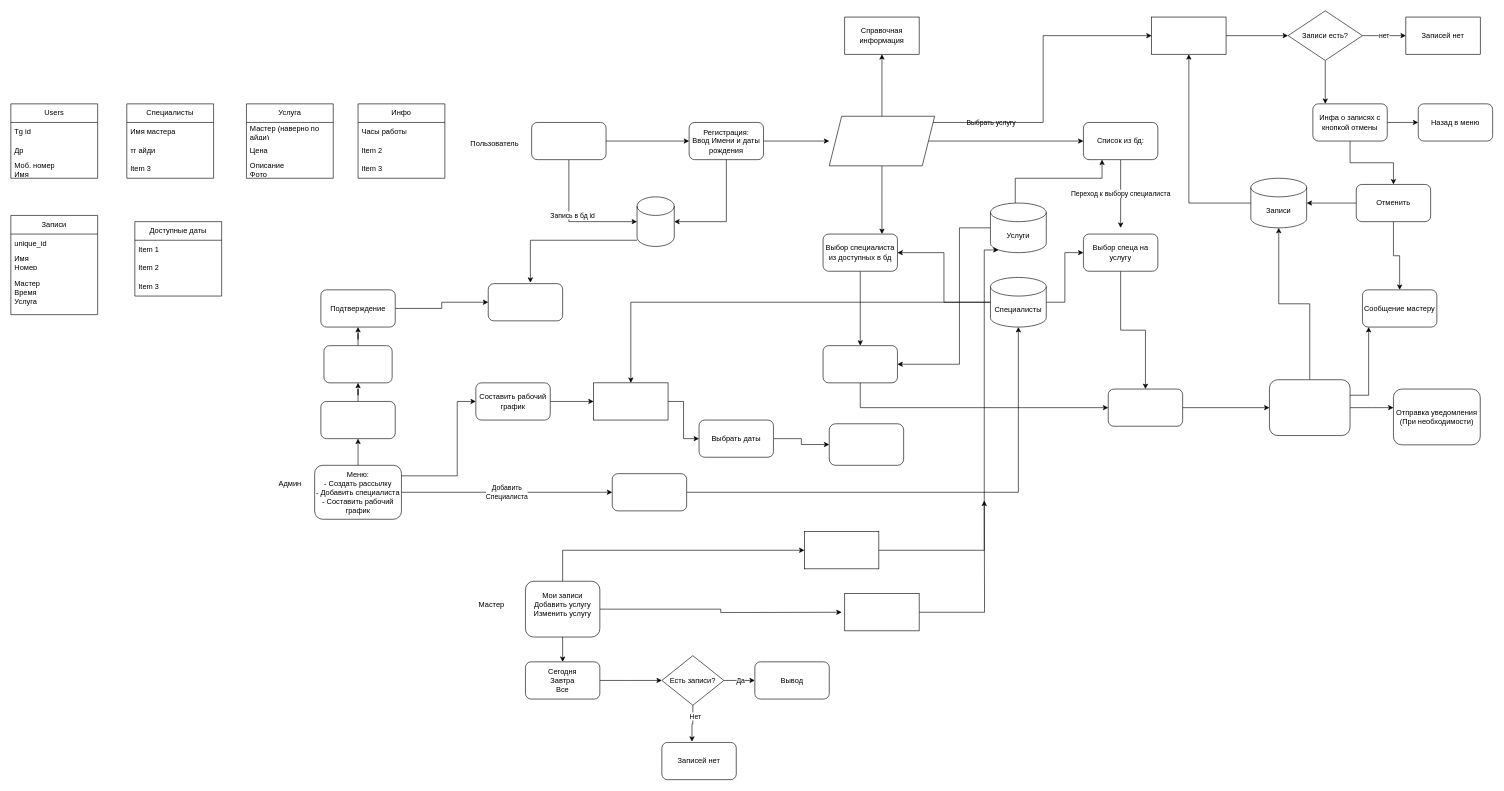
This 1504x791 diagram has some shape labels left out. The shapes that lost their labels are listed below. From the top down, each one's centre as x and y in pixels, then its label:
At (1188,35): "Посмотреть записи".
At (568,141): "Приветствие".
At (882,141): "Меню: Выбрать услугу Выбрать специалиста О нас Просмотр записей".
At (655,221): "БД Users".
At (525,302): "Рассылка".
At (357,364): "Ввод текста рассылки".
At (859,364): "Выбор услуг специалиста".
At (357,420): "Создать рассылку".
At (630,401): "Выбрать специалиста".
At (1145,407): "Выбор свободной даты".
At (1309,407): "Бронирование времени с настройкой уведомления и комментариями".
At (866,444): "Выбрать часы ... ... Все".
At (649,492): "ник тг".
At (841,550): "Добавить услугу".
At (881,612): "Изменить услугу".
